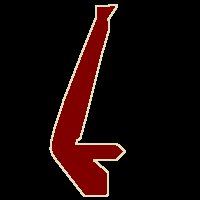tie: (50, 4, 125, 196)
